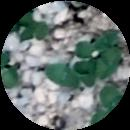Basil: (98, 48, 123, 76), (49, 65, 76, 88), (76, 63, 97, 88), (96, 29, 119, 50), (22, 22, 48, 39), (77, 42, 92, 71)
